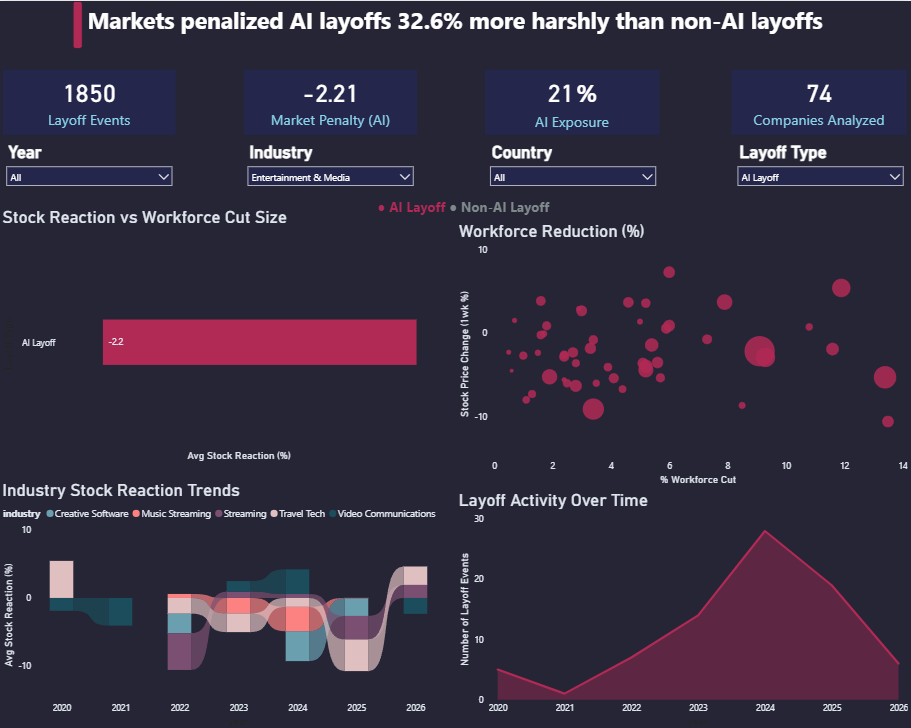

Layout of this report page (visuals, bound fields, positions):
{"tool":"powerbi","page":{"name":"The Market Verdict","canvas":[1280,1024],"ordinal":0},"visuals":[{"type":"textbox","box":[0,0,1280,78.3],"z":0},{"type":"shape","box":[102.9,0,13.7,66.9],"z":1000},{"type":"advanceCardE03760C5AB684758B56AA29F9E6C257B","fields":{"mainMeasure":["public layoffs_cleaned.Total Events Static"]},"box":[0,91.7,253.3,101.7],"z":2000},{"type":"advanceCardE03760C5AB684758B56AA29F9E6C257B","fields":{"mainMeasure":["public layoffs_cleaned.Avg AI Stock Reaction"]},"box":[338.3,91.7,253.3,101.7],"z":3000},{"type":"advanceCardE03760C5AB684758B56AA29F9E6C257B","fields":{"mainMeasure":["public layoffs_cleaned.AI Share Static"]},"box":[676.7,91.7,255,101.7],"z":4000},{"type":"advanceCardE03760C5AB684758B56AA29F9E6C257B","fields":{"mainMeasure":["public layoffs_cleaned.Total Companies Static"]},"box":[1023.3,91.7,256.7,101.7],"z":5000},{"type":"slicer","fields":{"Values":["public layoffs_cleaned.year"]},"box":[0,193.3,253.3,78.3],"z":6000},{"type":"slicer","fields":{"Values":["public layoffs_cleaned.industry_category"]},"box":[338.3,193.3,253.3,78.3],"z":7000},{"type":"slicer","fields":{"Values":["public layoffs_cleaned.hq_country"]},"box":[678.3,193.3,253.3,78.3],"z":8000},{"type":"slicer","fields":{"Values":["public layoffs_cleaned.Layoff Type"]},"box":[1026.7,193.3,253.3,78.3],"z":9000},{"type":"clusteredBarChart","title":"Stock Reaction vs Workforce Cut Size","fields":{"Category":["public layoffs_cleaned.Layoff Type"],"Y":["Avg(public layoffs_cleaned.stock_price_change_1wk_pct)"]},"box":[0,289.5,591.2,361.4],"z":10000},{"type":"ribbonChart","title":"Industry Stock Reaction Trends","fields":{"Category":["public layoffs_cleaned.year"],"Y":["public layoffs_cleaned.Avg Stock Reaction"],"Series":["public layoffs_cleaned.industry"]},"box":[0,671.9,622.8,352.6],"z":11000},{"type":"scatterChart","title":"Workforce Reduction (%)","fields":{"X":["public layoffs_cleaned.percentage_of_workforce"],"Y":["public layoffs_cleaned.stock_price_change_1wk_pct"],"Series":["public layoffs_cleaned.Layoff Type"],"Size":["Sum(public layoffs_cleaned.number_laid_off)"]},"box":[640,308.3,640,376.7],"z":12000},{"type":"areaChart","title":"Layoff Activity Over Time","fields":{"Category":["public layoffs_cleaned.year"],"Y":["CountNonNull(public layoffs_cleaned.event_id)"],"Series":["public layoffs_cleaned.Layoff Type"]},"box":[640.4,686,640.4,338.6],"z":13000},{"type":"textbox","box":[526.3,271.9,268.4,36.8],"z":14000}]}

Visuals, with their boxes in screenshot pixels (x1, y1, x2, y2), scaled from the page's 1280x1024 canvas onto the 911x728 screenshot:
textbox: <box>0,0,910,56</box>
shape: <box>73,0,83,48</box>
advanceCardE03760C5AB684758B56AA29F9E6C257B - public layoffs_cleaned.Total Events Static: <box>0,65,180,137</box>
advanceCardE03760C5AB684758B56AA29F9E6C257B - public layoffs_cleaned.Avg AI Stock Reaction: <box>241,65,421,137</box>
advanceCardE03760C5AB684758B56AA29F9E6C257B - public layoffs_cleaned.AI Share Static: <box>482,65,663,137</box>
advanceCardE03760C5AB684758B56AA29F9E6C257B - public layoffs_cleaned.Total Companies Static: <box>728,65,910,137</box>
slicer - public layoffs_cleaned.year: <box>0,137,180,193</box>
slicer - public layoffs_cleaned.industry_category: <box>241,137,421,193</box>
slicer - public layoffs_cleaned.hq_country: <box>483,137,663,193</box>
slicer - public layoffs_cleaned.Layoff Type: <box>731,137,910,193</box>
"Stock Reaction vs Workforce Cut Size" clusteredBarChart: <box>0,206,421,463</box>
"Industry Stock Reaction Trends" ribbonChart: <box>0,478,443,727</box>
"Workforce Reduction (%)" scatterChart: <box>456,219,910,487</box>
"Layoff Activity Over Time" areaChart: <box>456,488,910,727</box>
textbox: <box>375,193,566,219</box>
